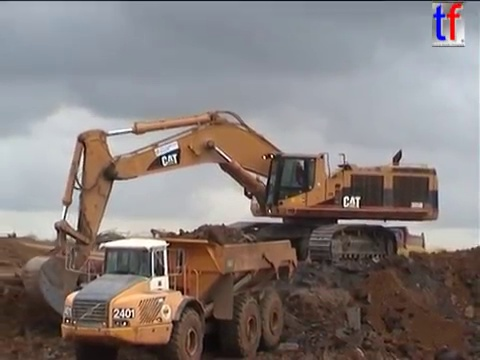excavator: (19, 107, 442, 321)
truck: (58, 233, 301, 360), (376, 224, 427, 259)
